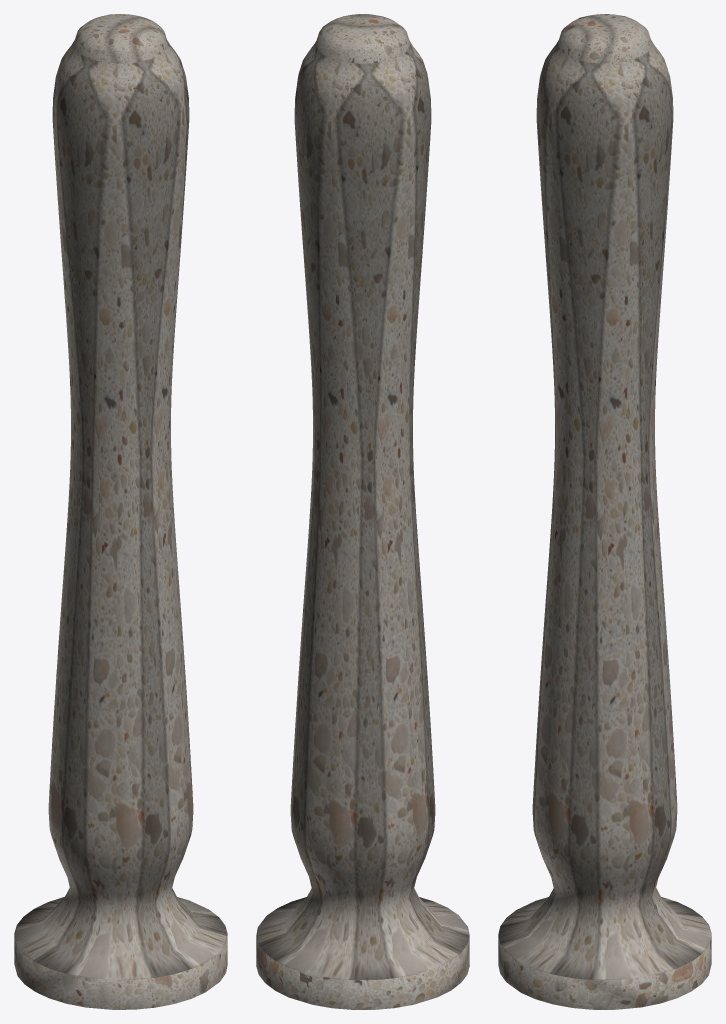
File: crystal_tower.dae
3 views of the same model, side by side, from view 1: azimuth 30°, elevation 25°; view 2: azimuth 150°, elevation 25°; view 3: azimuth 270°, elevation 25° (orthographic).
Visible parts, largest first — view 1: Test 2; view 2: Test 2; view 3: Test 2.
Part boxes in pixels (left/top/right/bottom): Test 2: left=14, top=14, right=227, bottom=1009; Test 2: left=256, top=14, right=469, bottom=1009; Test 2: left=498, top=14, right=711, bottom=1009.
Size of the model in its own units: 2.66 by 2.66 by 12.93.
